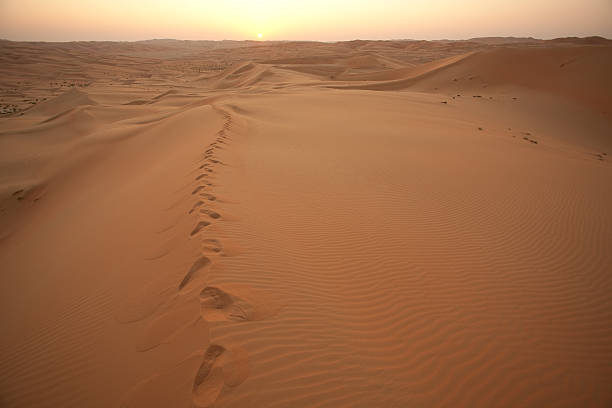human_foot_print: (120, 341, 249, 407), (192, 344, 248, 407), (199, 285, 279, 321), (178, 255, 210, 289), (190, 221, 210, 235)
